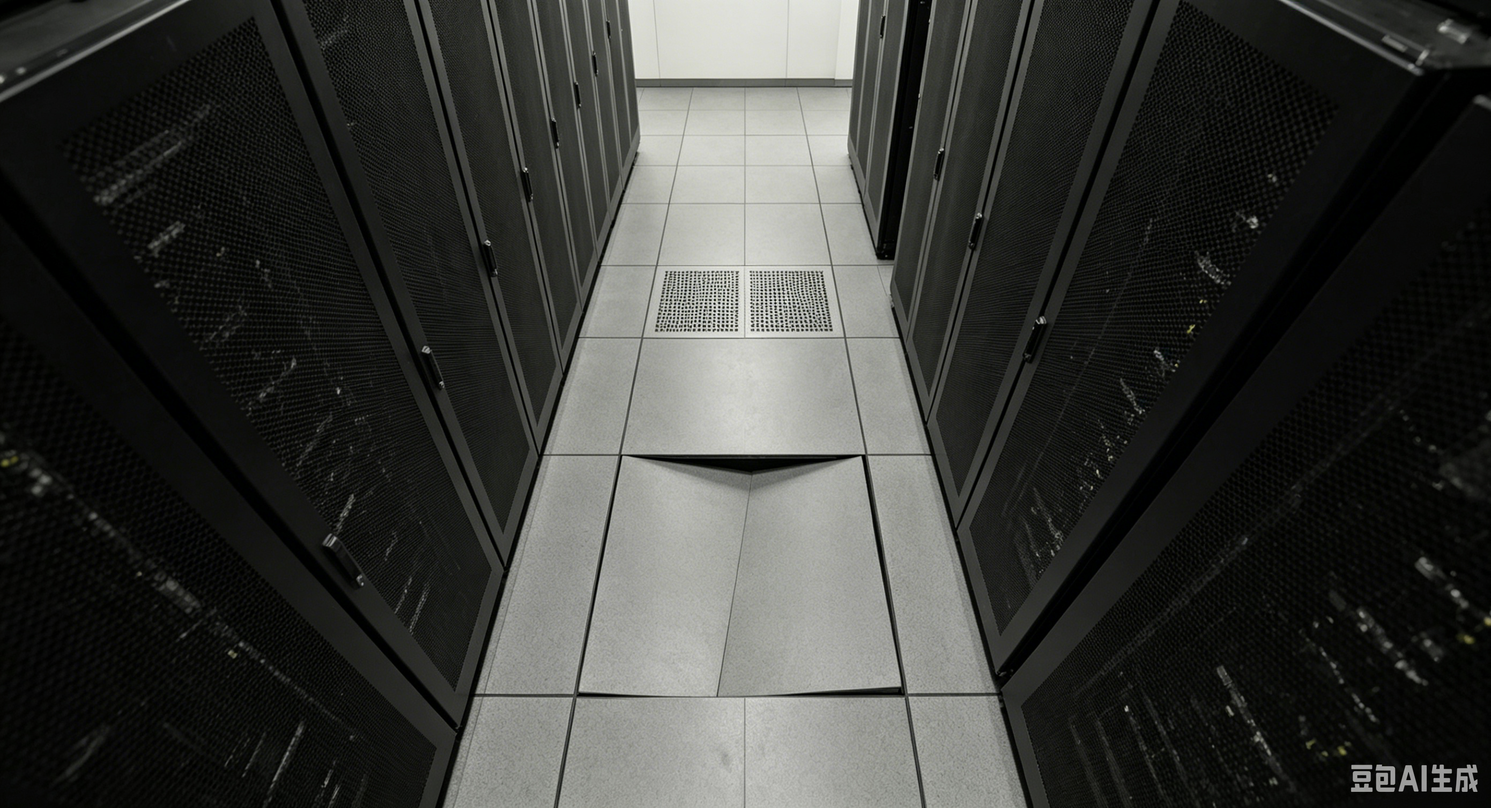floor_defect: (568, 451, 910, 695)
